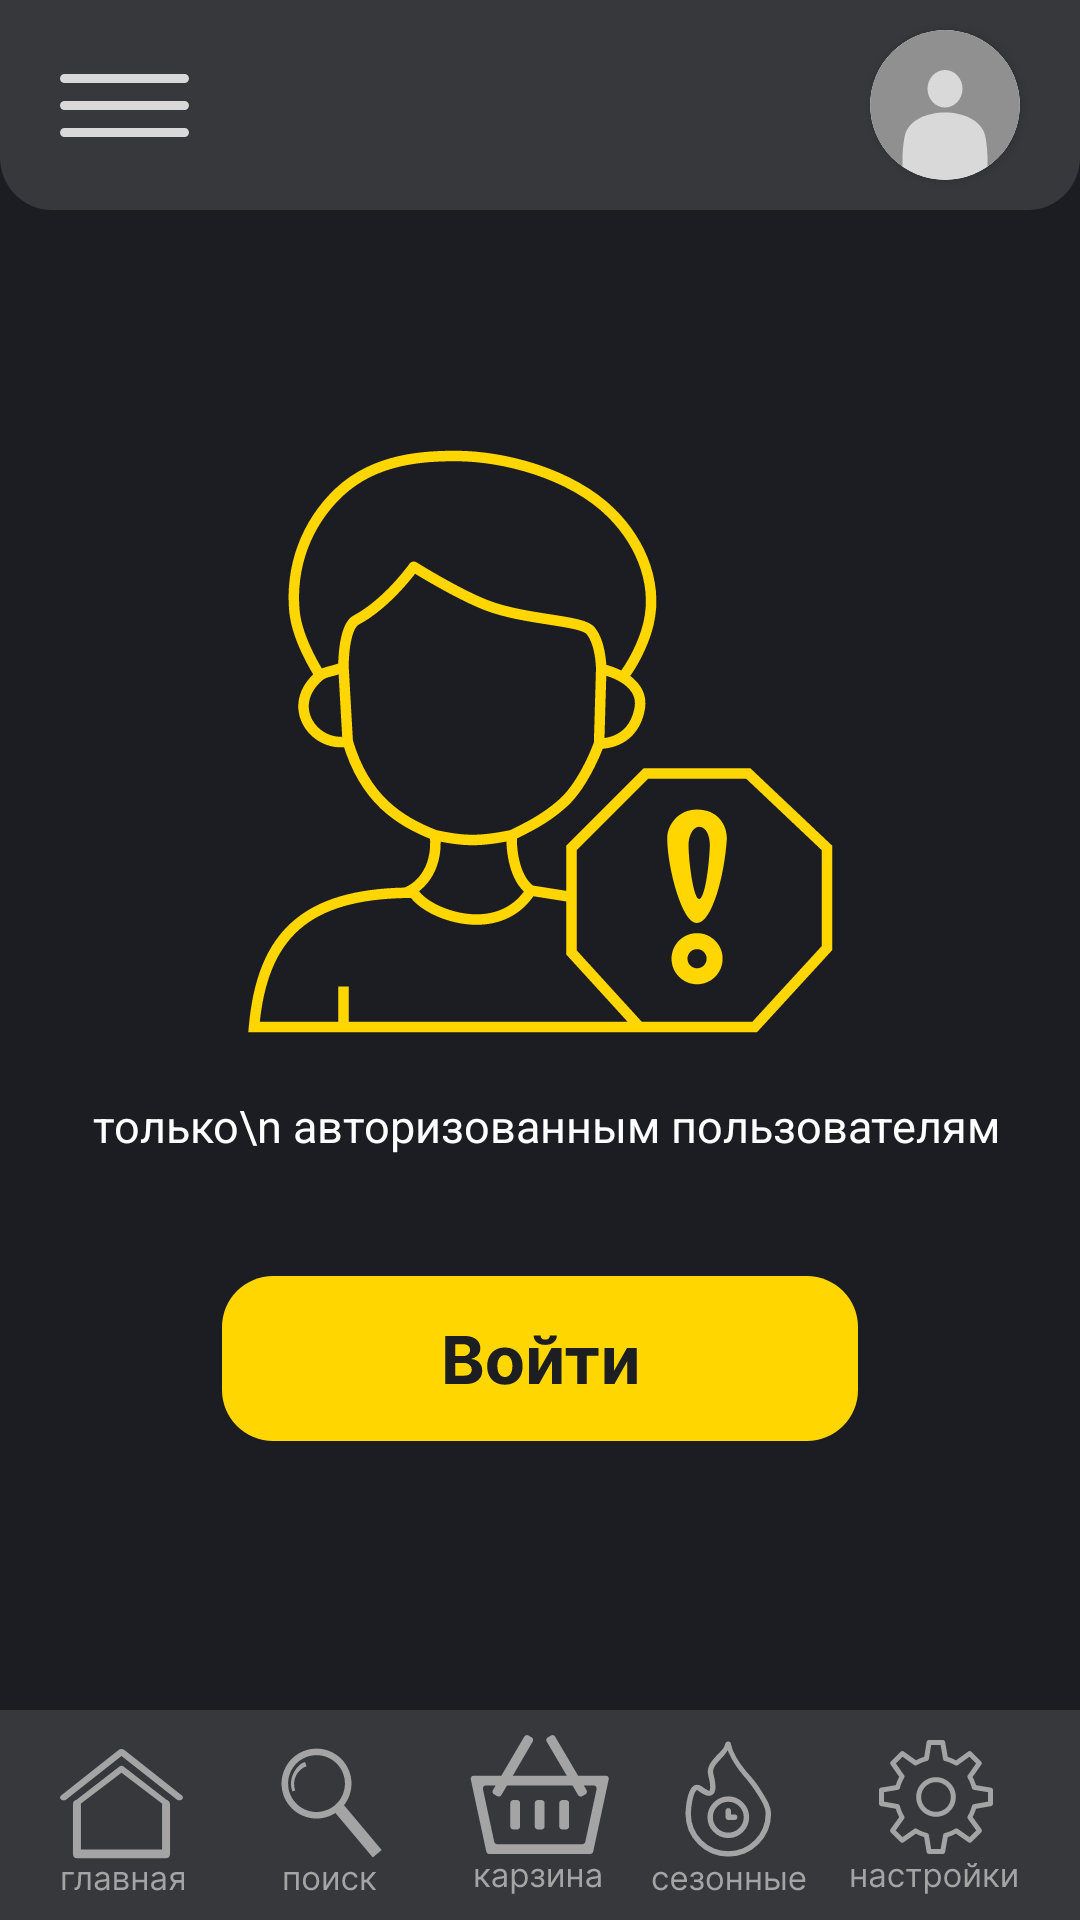

Point at icon controls on the screen. Image size 1080px x 1920px, points as (x,y).
avatarka: (945,105)
menu: (124,105)
